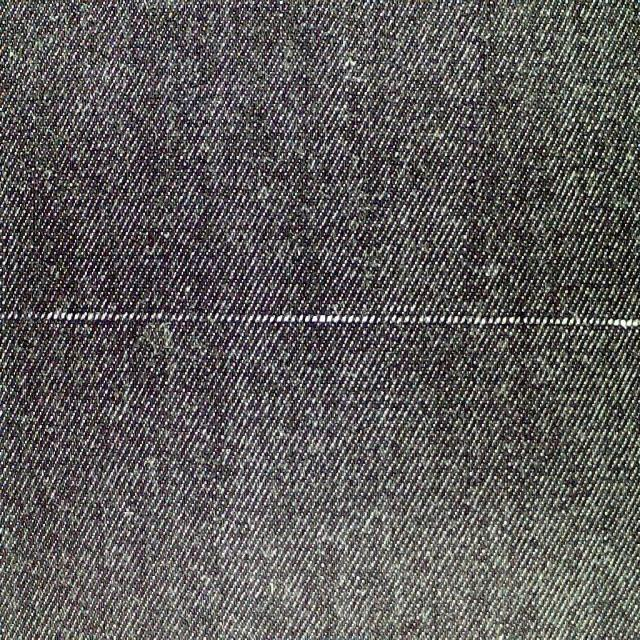Line: (0, 310, 640, 331)
